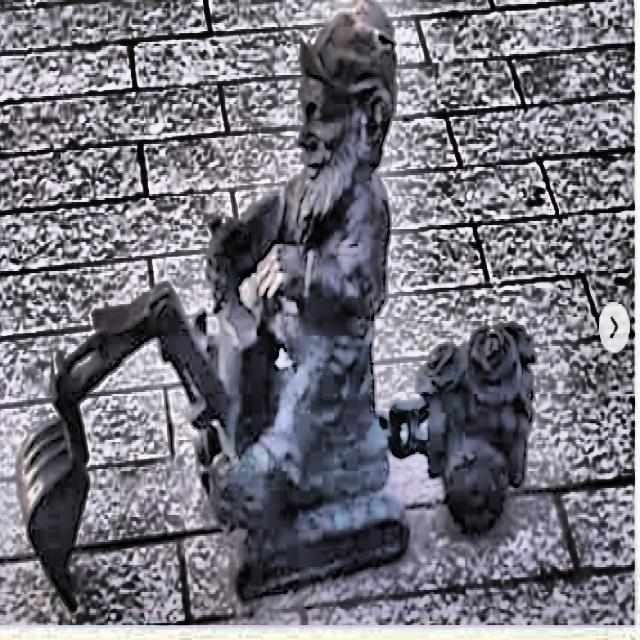Koparkus: (18, 0, 532, 607)
